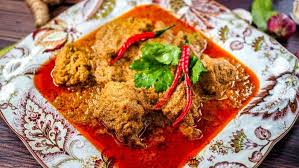rendang: (37, 12, 261, 150)
